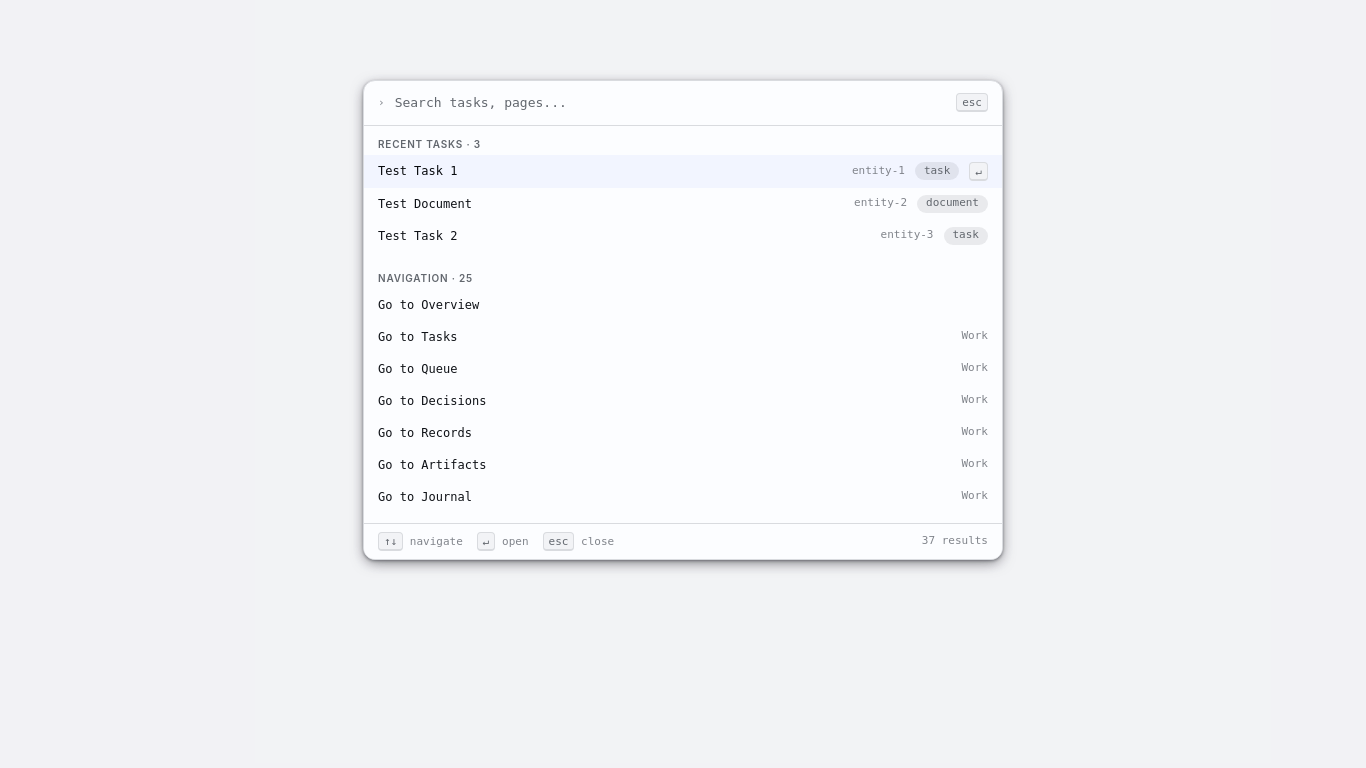
CommandPalette › searches the server after a debounce and offers a full search
Type "dep" into the dropdown at point(670, 103), box [395,93,946,112]
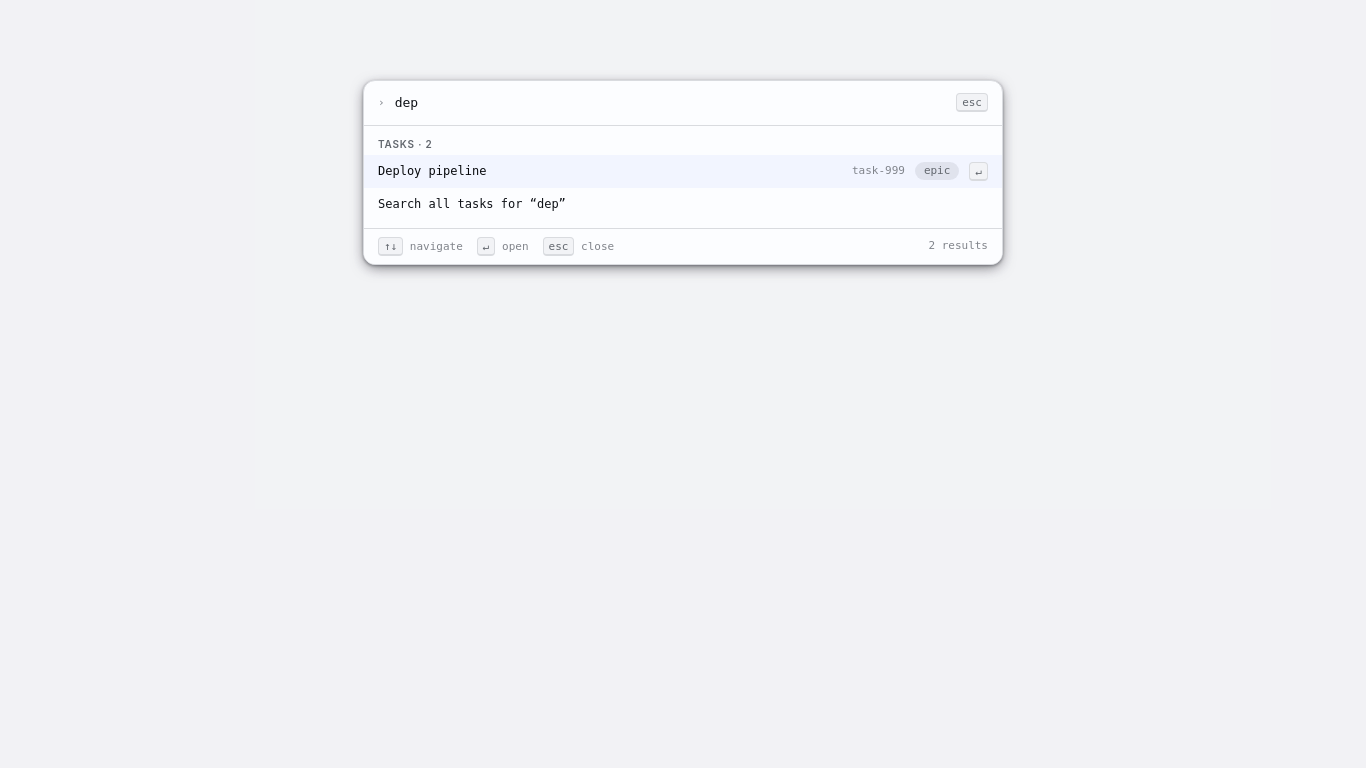
Check: the text "Deploy pipeline" is shown, box [378,164,486,178]
Check: the text "task-999" is shown, box [852,163,905,179]
Check: the text "epic" is shown, box [915,162,959,180]
